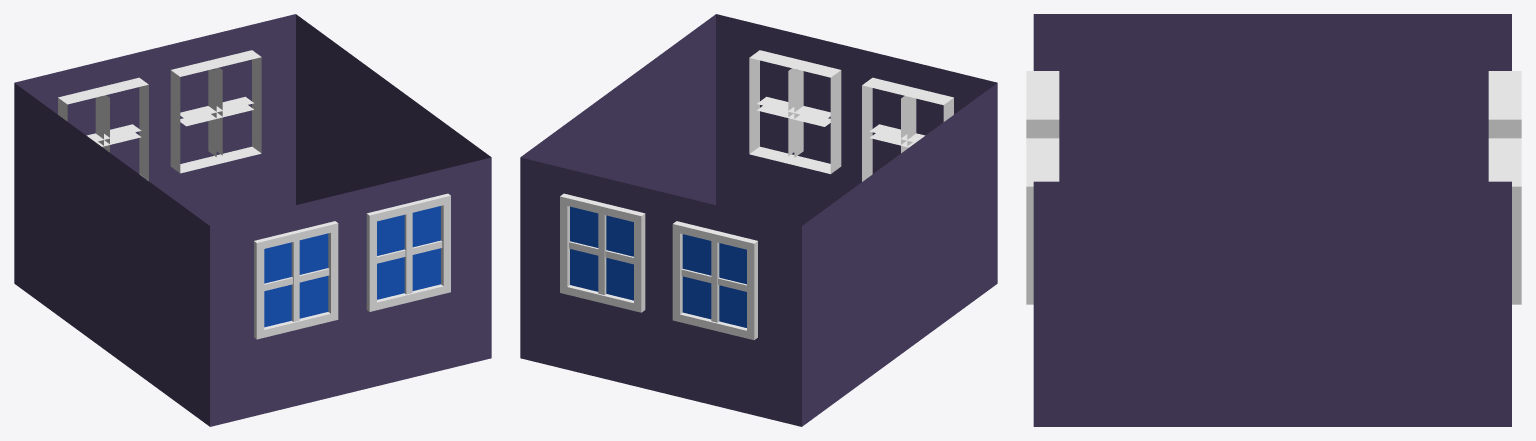
The model's file is CityBuildingA_03_flooor.fbx.
3 views of the same model, side by side, from view 1: azimuth 30°, elevation 25°; view 2: azimuth 150°, elevation 25°; view 3: azimuth 270°, elevation 25° (orthographic). The views are drawn at different scales.
Parts seen in each view (by area): view 1: CityBuildingA_03_flooor; view 2: CityBuildingA_03_flooor; view 3: CityBuildingA_03_flooor.
Boxes of the visible parts, left/top/right/bottom form: CityBuildingA_03_flooor: left=14, top=14, right=491, bottom=426; CityBuildingA_03_flooor: left=520, top=14, right=997, bottom=426; CityBuildingA_03_flooor: left=1026, top=14, right=1521, bottom=426.
Size of the model in its own units: 0.4513 by 0.3075 by 0.563.
